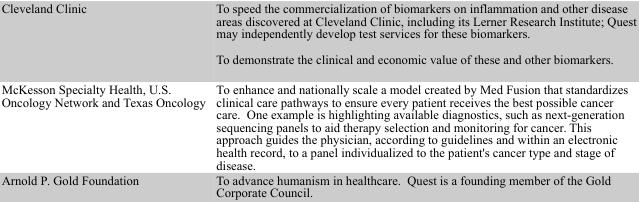table: (0, 0, 635, 199)
table column: (210, 0, 635, 199), (0, 0, 210, 199)
table row: (0, 73, 635, 171), (0, 0, 635, 73), (0, 171, 635, 199)
